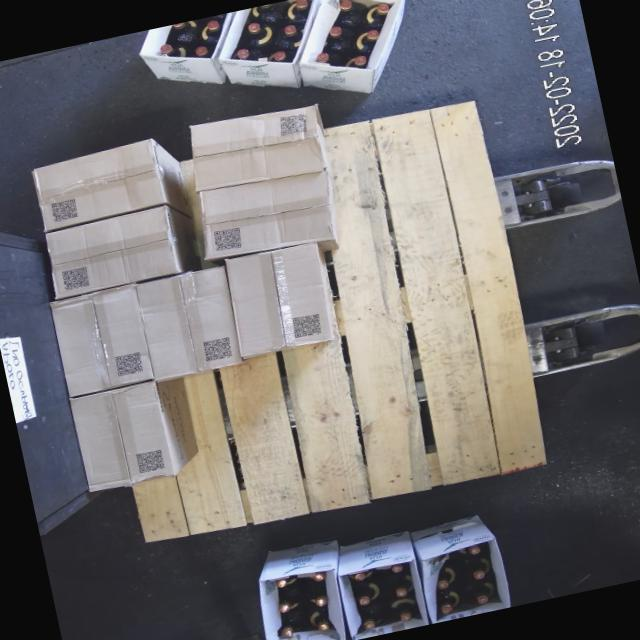box: (193, 166, 339, 266), (183, 99, 329, 199), (223, 242, 337, 360), (41, 206, 180, 298), (32, 139, 167, 231), (137, 266, 245, 380), (50, 284, 154, 398), (70, 382, 174, 494)
